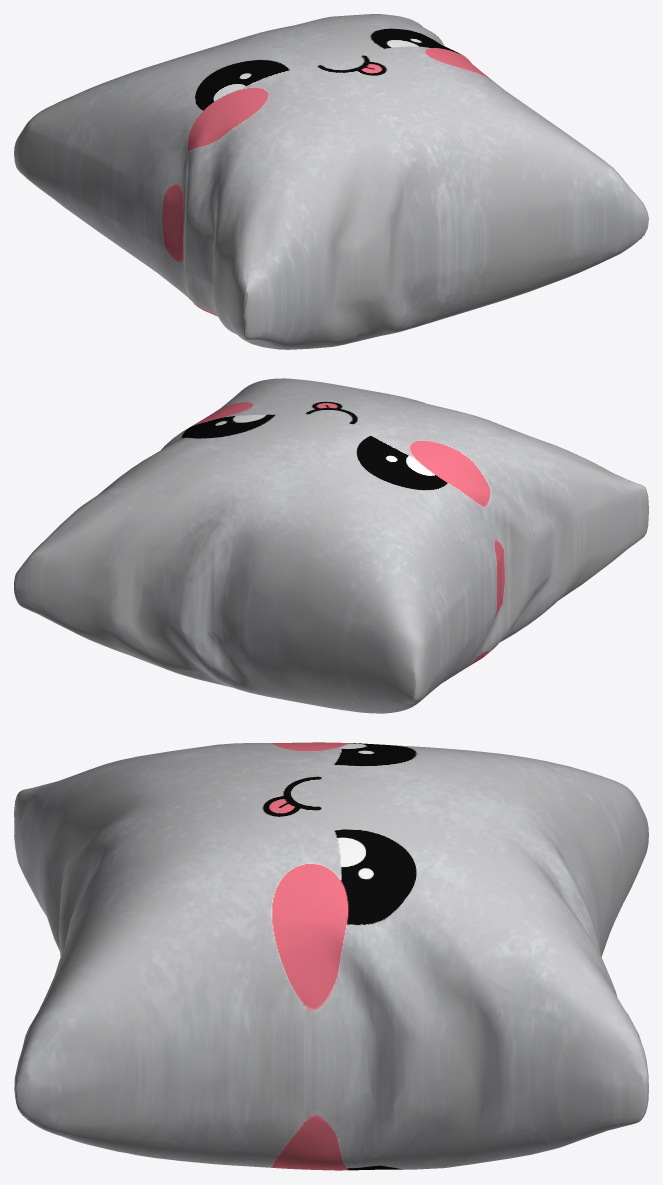
File: pillow.obj
The picture shows the model from 3 angles, top to bottom: view 1: azimuth 30°, elevation 25°; view 2: azimuth 150°, elevation 25°; view 3: azimuth 270°, elevation 25°; orthographic projection. The views are drawn at different scales.
Visible parts, largest first — view 1: white; view 2: white; view 3: white.
Part boxes in pixels (x1,y1,x2,y2): white: (14, 14, 648, 349); white: (14, 378, 648, 713); white: (14, 742, 648, 1170).
Bounding box in the file's own units: 6.14 × 3.58 × 6.12.
Materials: 1 (1 with a texture image).
